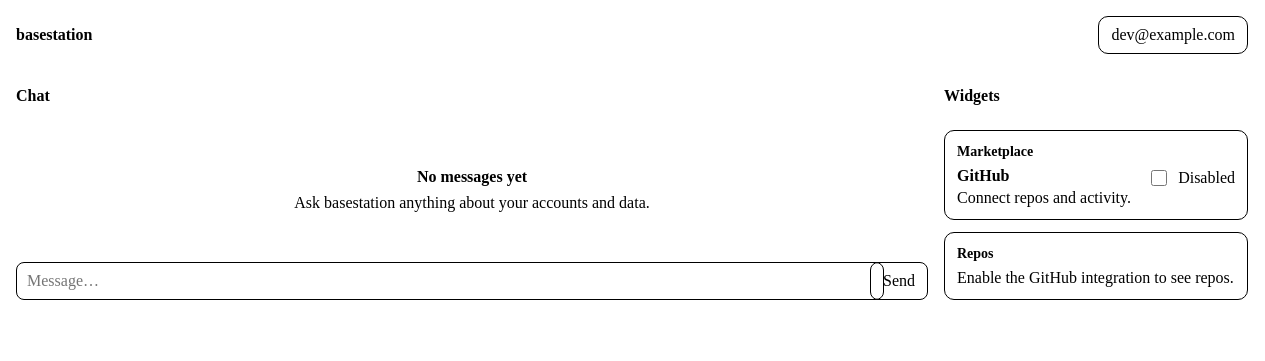
Test case: App › should show connect UI when GitHub source is api and not connected
Click the checkbox named "Enable GitHub integration": (1159, 178) [1151,170,1167,186]
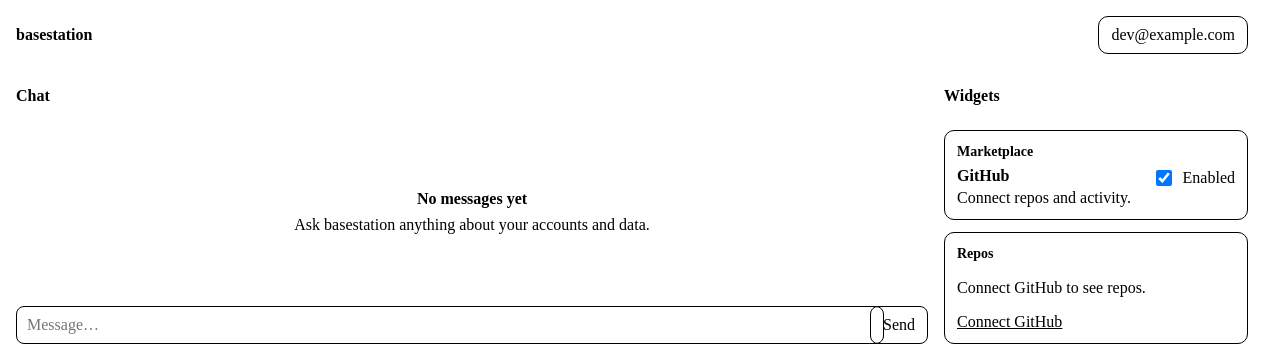
Expected: the link "Connect GitHub" is shown, [957,313,1062,330]
